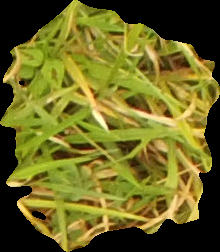grass: (1, 1, 218, 250)
